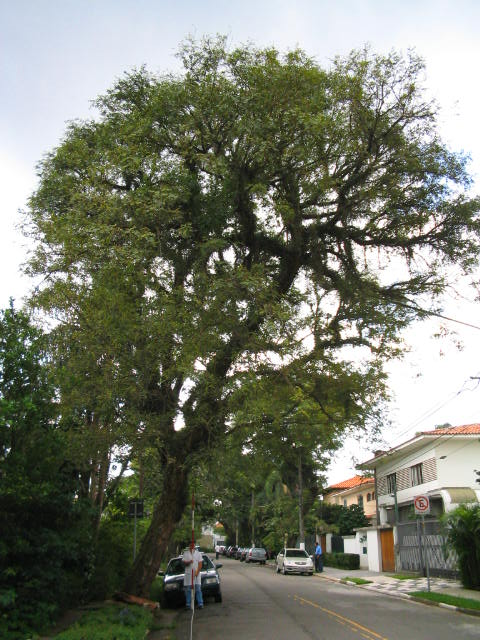crown: (19, 21, 477, 493)
stem: (119, 460, 187, 605)
stick: (183, 489, 198, 609)
tree: (16, 18, 477, 605)
